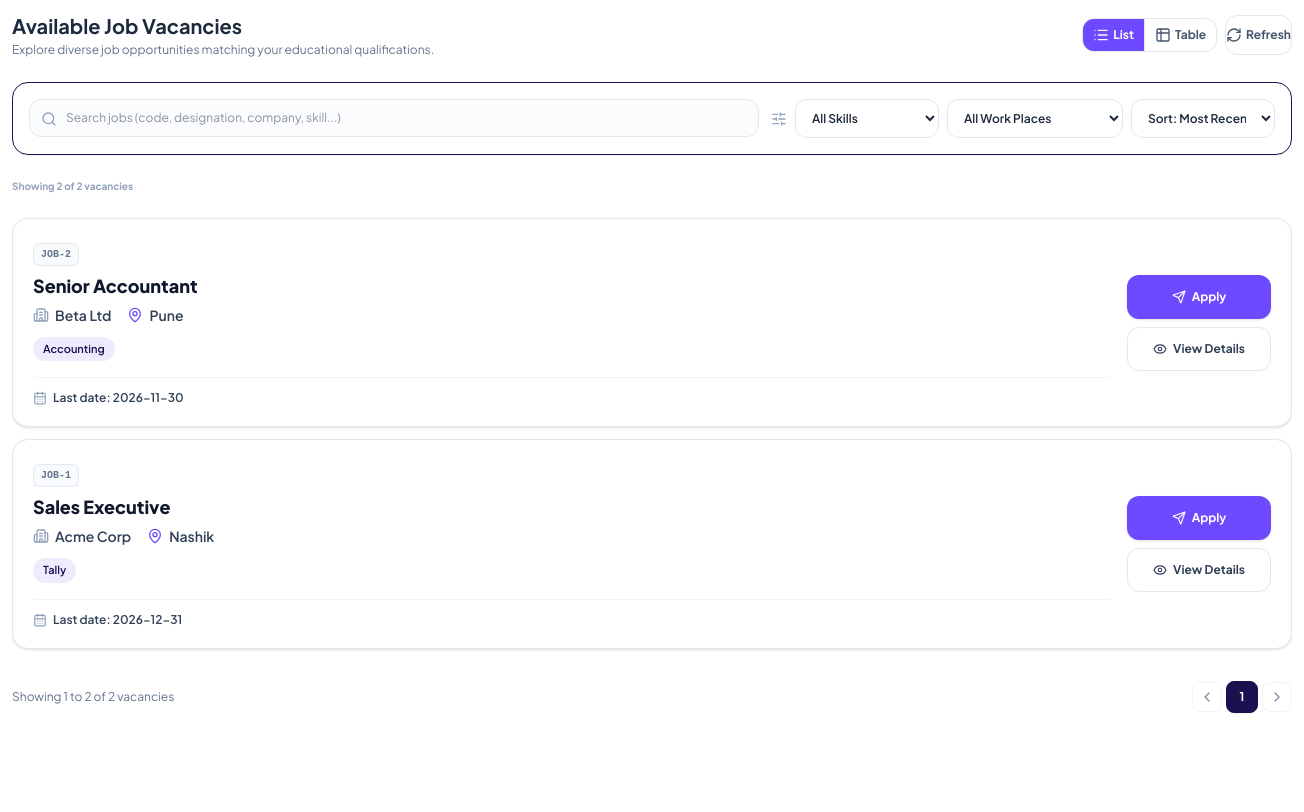
Test: JobListingView › shows the API error when quick apply fails
Click the button "Apply" in the row of "Pune": coordinates (1199, 297) [1127,275,1271,319]
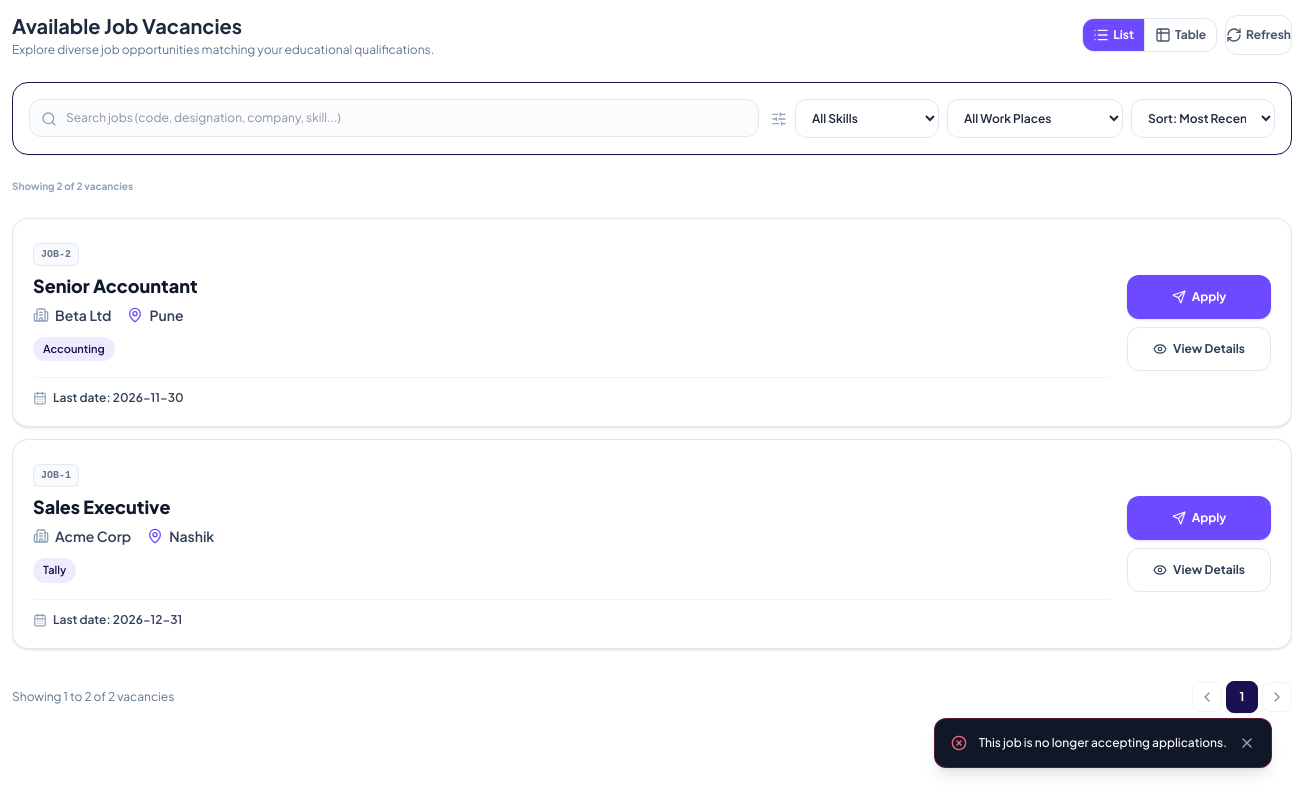
Expected: the text "This job is no longer accepting applications." is shown, [979,735,1227,751]
